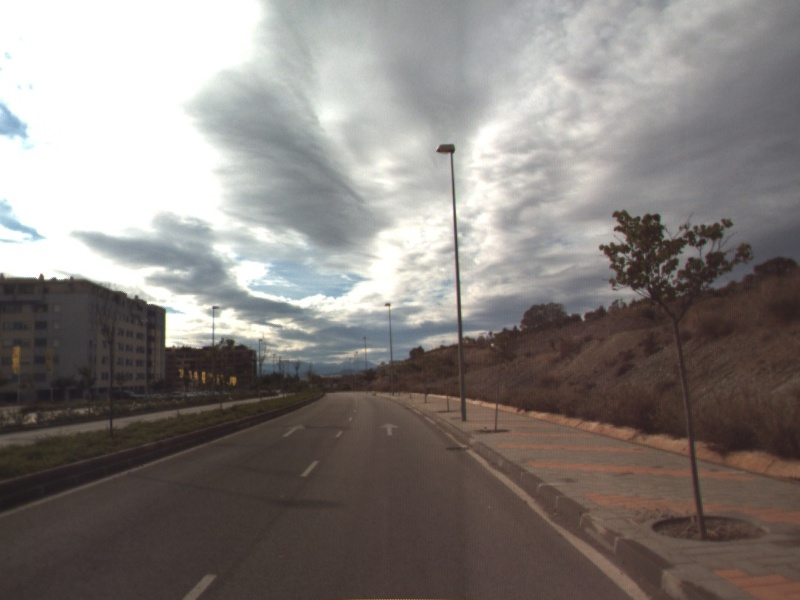STRAIGHT: (280, 422, 308, 439), (378, 421, 401, 437)
